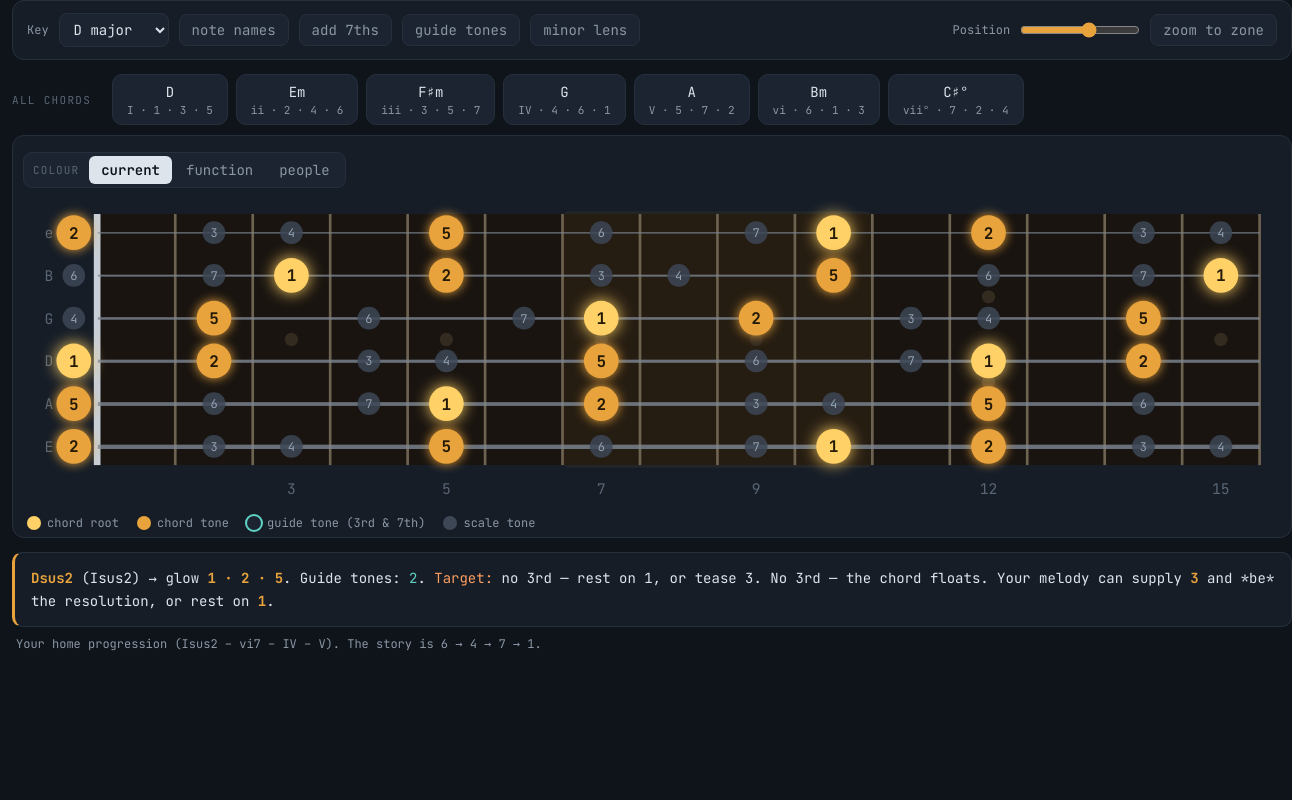
Test: <DegreeLens /> › switching to IV updates the glow and announces the fresh notes
// The "All chords" IV chip.
Click the button "G IV · 4 · 6 · 1".
click(564, 100)  # box [503,74,626,125]
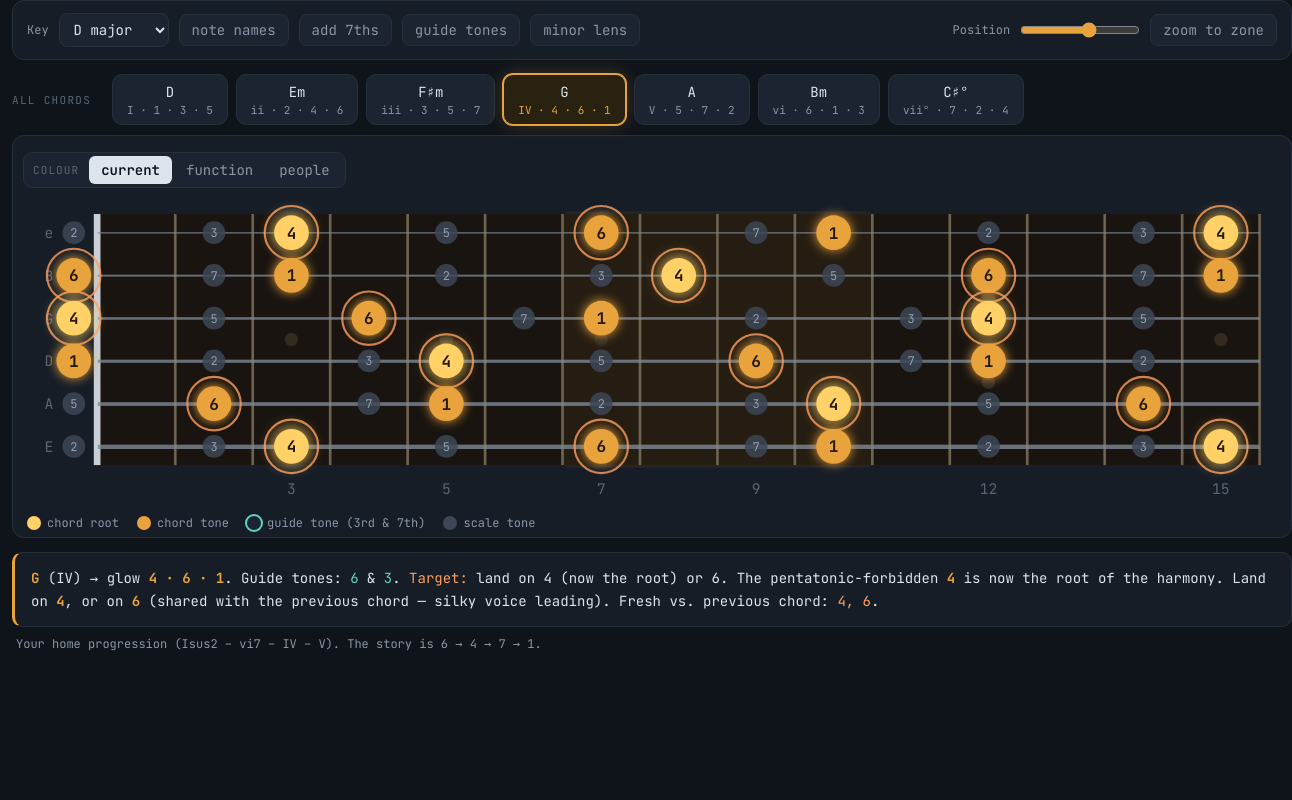
expect the element with class "dl-info" shows "G (IV) → glow 4 · 6 · 1": met, box [12,552,1291,627]
expect the element with class "dl-info" shows "Fresh vs. previous chord: 4, 6": met, box [12,552,1291,627]
